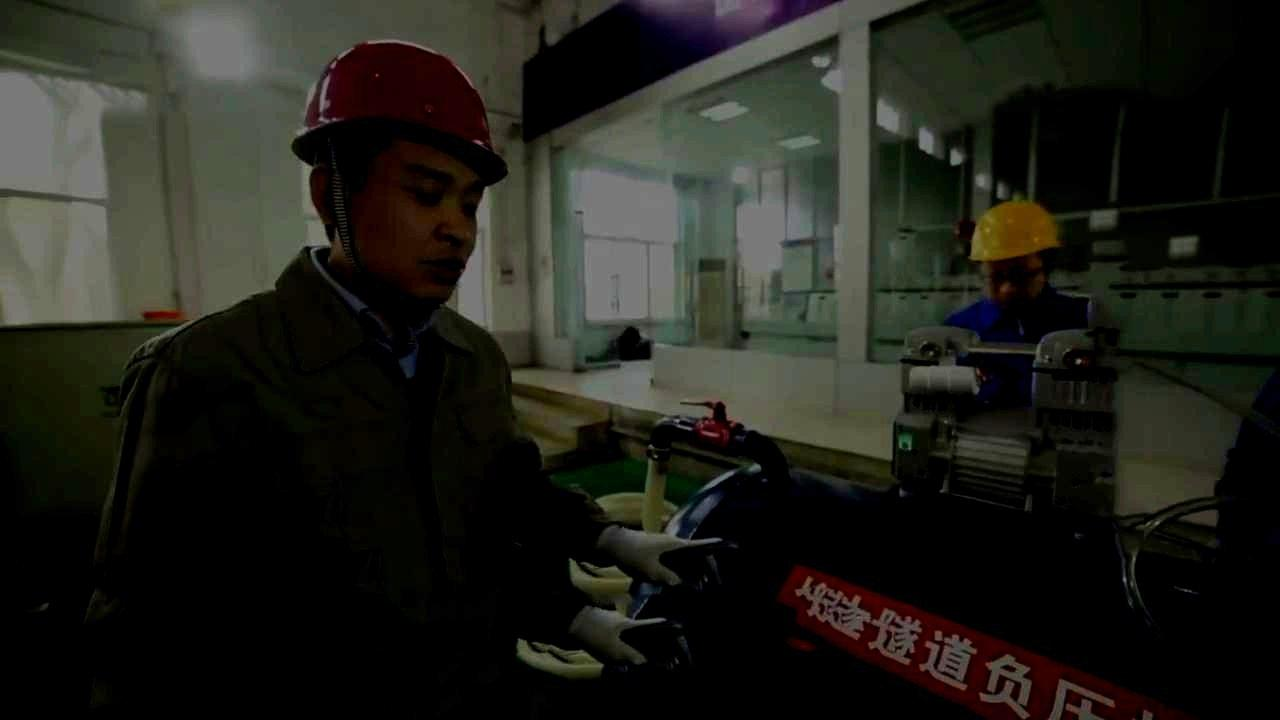helmet: (290, 38, 509, 306), (967, 198, 1063, 314)
